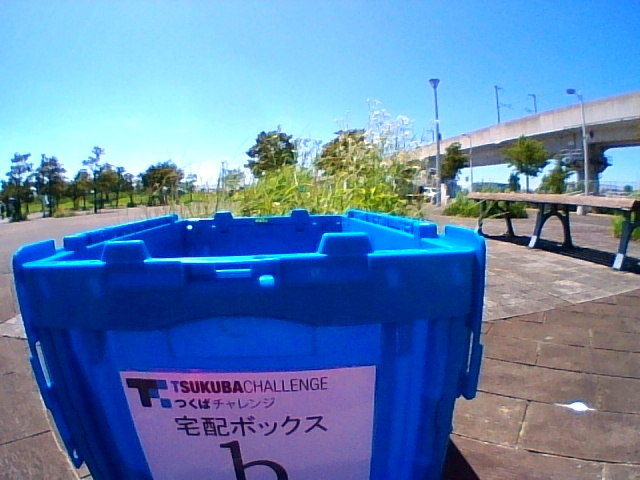blue_box: (11, 211, 486, 480)
tag_b: (162, 375, 363, 480)
